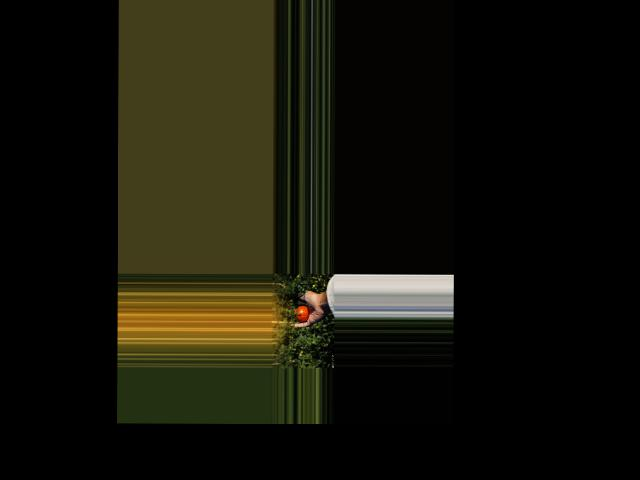tomato: (294, 306, 309, 322)
